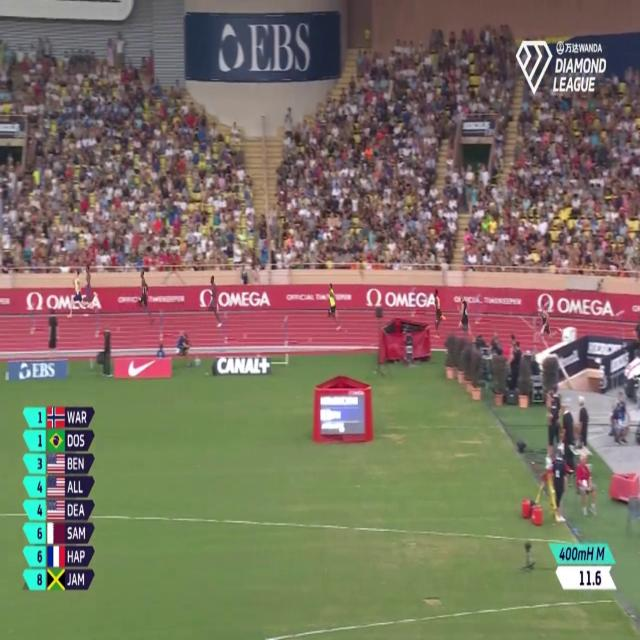athlete: (535, 299, 561, 356), (203, 268, 223, 338), (135, 263, 153, 328), (325, 278, 342, 342), (430, 276, 446, 344), (69, 271, 86, 324), (458, 296, 474, 343)
hurdle: (276, 309, 294, 362), (218, 306, 234, 353), (25, 296, 39, 340), (90, 301, 104, 343), (156, 301, 168, 346)
